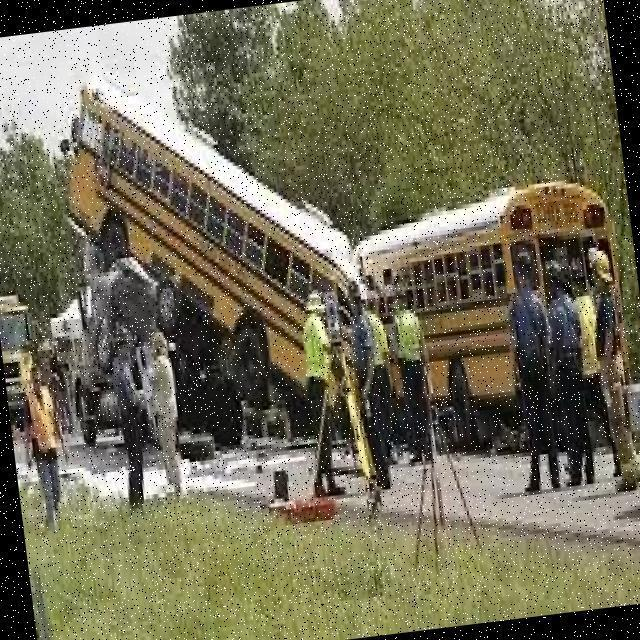accident: (42, 77, 410, 476)
